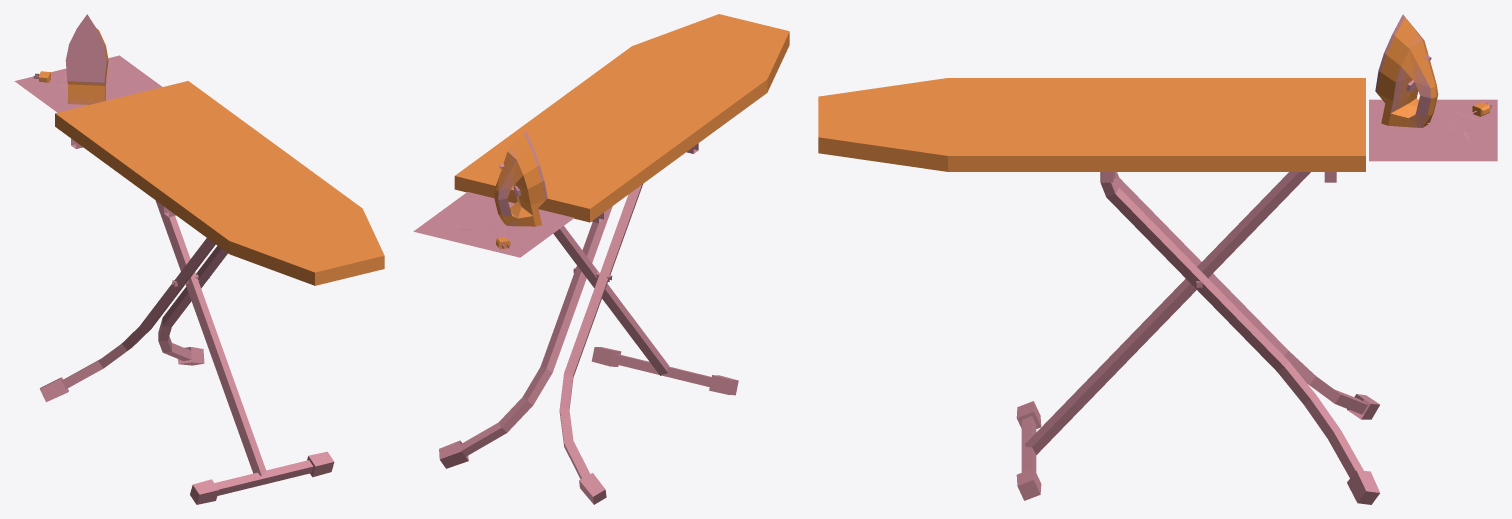
File: Laundry_ironing_installation.fbx
3 views of the same model, side by side, from view 1: azimuth 30°, elevation 25°; view 2: azimuth 150°, elevation 25°; view 3: azimuth 270°, elevation 25° (orthographic). The views are drawn at different scales.
Visible parts, largest first — view 1: Laundry_ironing_installation; view 2: Laundry_ironing_installation; view 3: Laundry_ironing_installation.
Boxes of the visible parts, x1=… form: Laundry_ironing_installation: x1=14, y1=14, x2=384, y2=504; Laundry_ironing_installation: x1=413, y1=14, x2=789, y2=504; Laundry_ironing_installation: x1=818, y1=14, x2=1497, y2=504.
Bounding box in the file's own units: 72.58 × 154 × 217.
